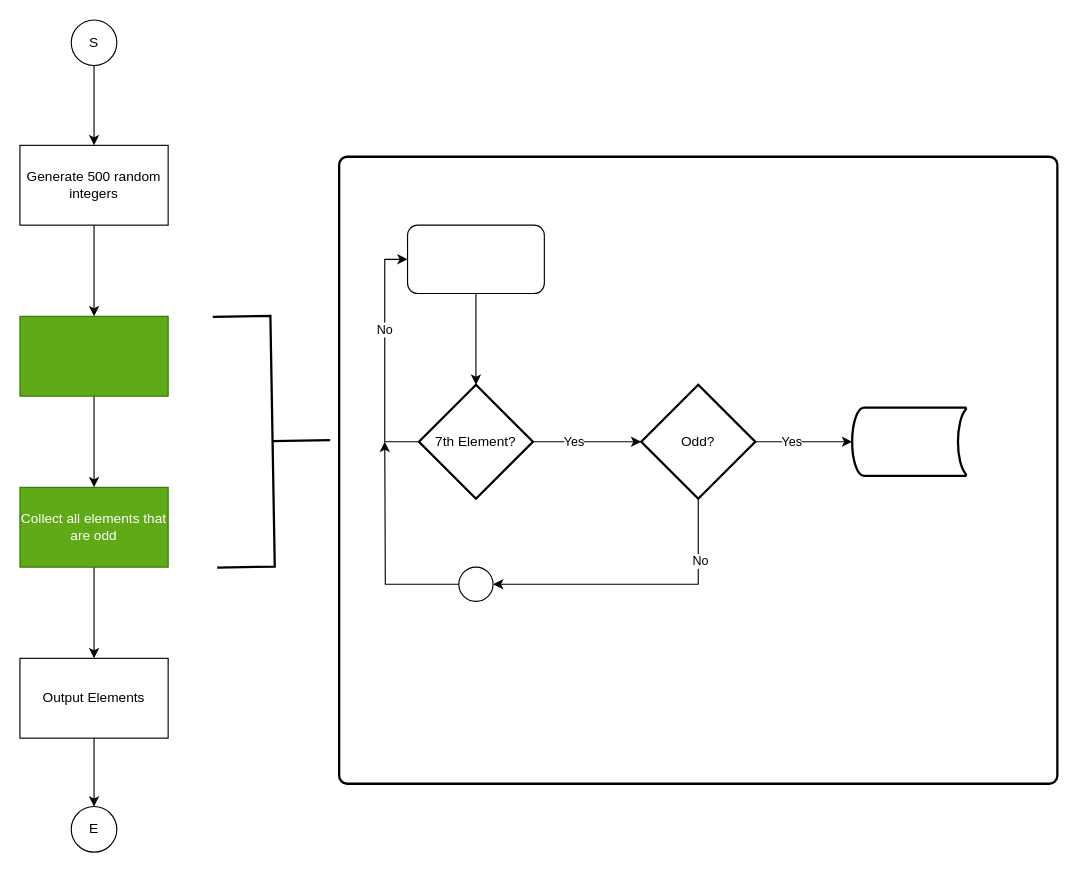
Image size: 1078x872. Some labels were removed from this diagram. The shapes that lost their labels are listed below. From the top down, each one's centre as x and y in pixels, then its label:
At point 475,259: "For each element..".
At point 93,355: "Loop through every 7th element".
At point 908,441: "Collect Value".
